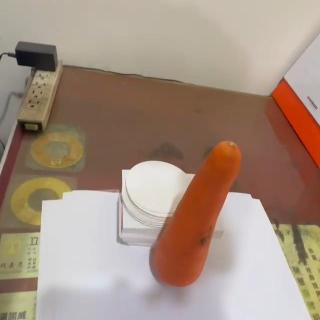carrot: (149, 138, 241, 288)
